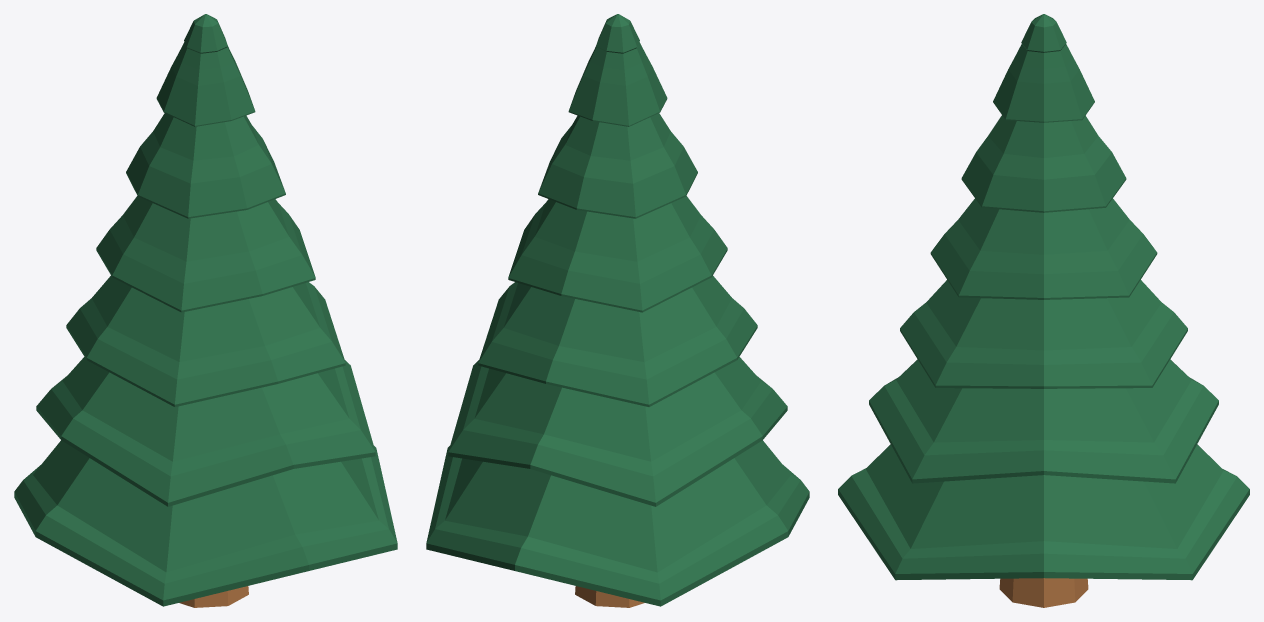
Rendered from SM_tree3.fbx.
The picture shows the model from 3 angles, left to right: view 1: azimuth 30°, elevation 25°; view 2: azimuth 150°, elevation 25°; view 3: azimuth 270°, elevation 25°; orthographic projection.
Parts seen in each view (by area): view 1: SM_tree3; view 2: SM_tree3; view 3: SM_tree3.
Part boxes in pixels (left/top/right/bottom): SM_tree3: left=14, top=14, right=397, bottom=607; SM_tree3: left=426, top=14, right=809, bottom=607; SM_tree3: left=838, top=14, right=1249, bottom=607.
Bounding box in the file's own units: 447 × 721 × 468.
1 material, 1 textured.
